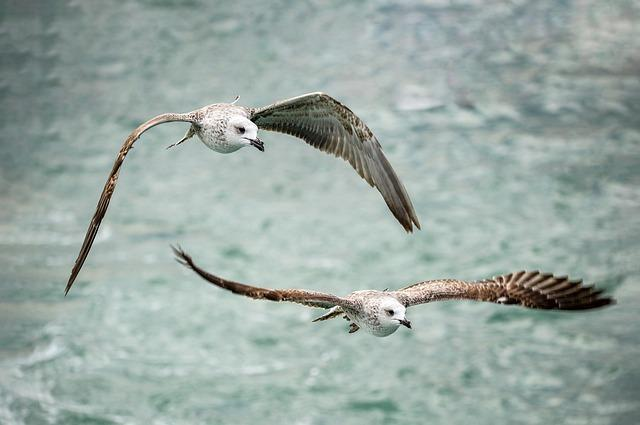Non_Gorille: (56, 57, 610, 380)
